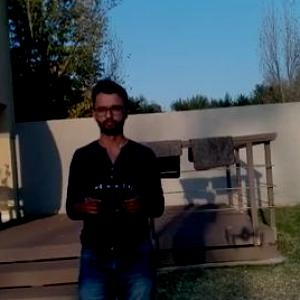follow: (63, 70, 170, 299)
